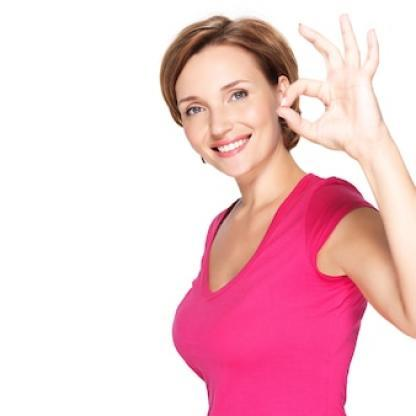ok: (274, 11, 386, 161)
